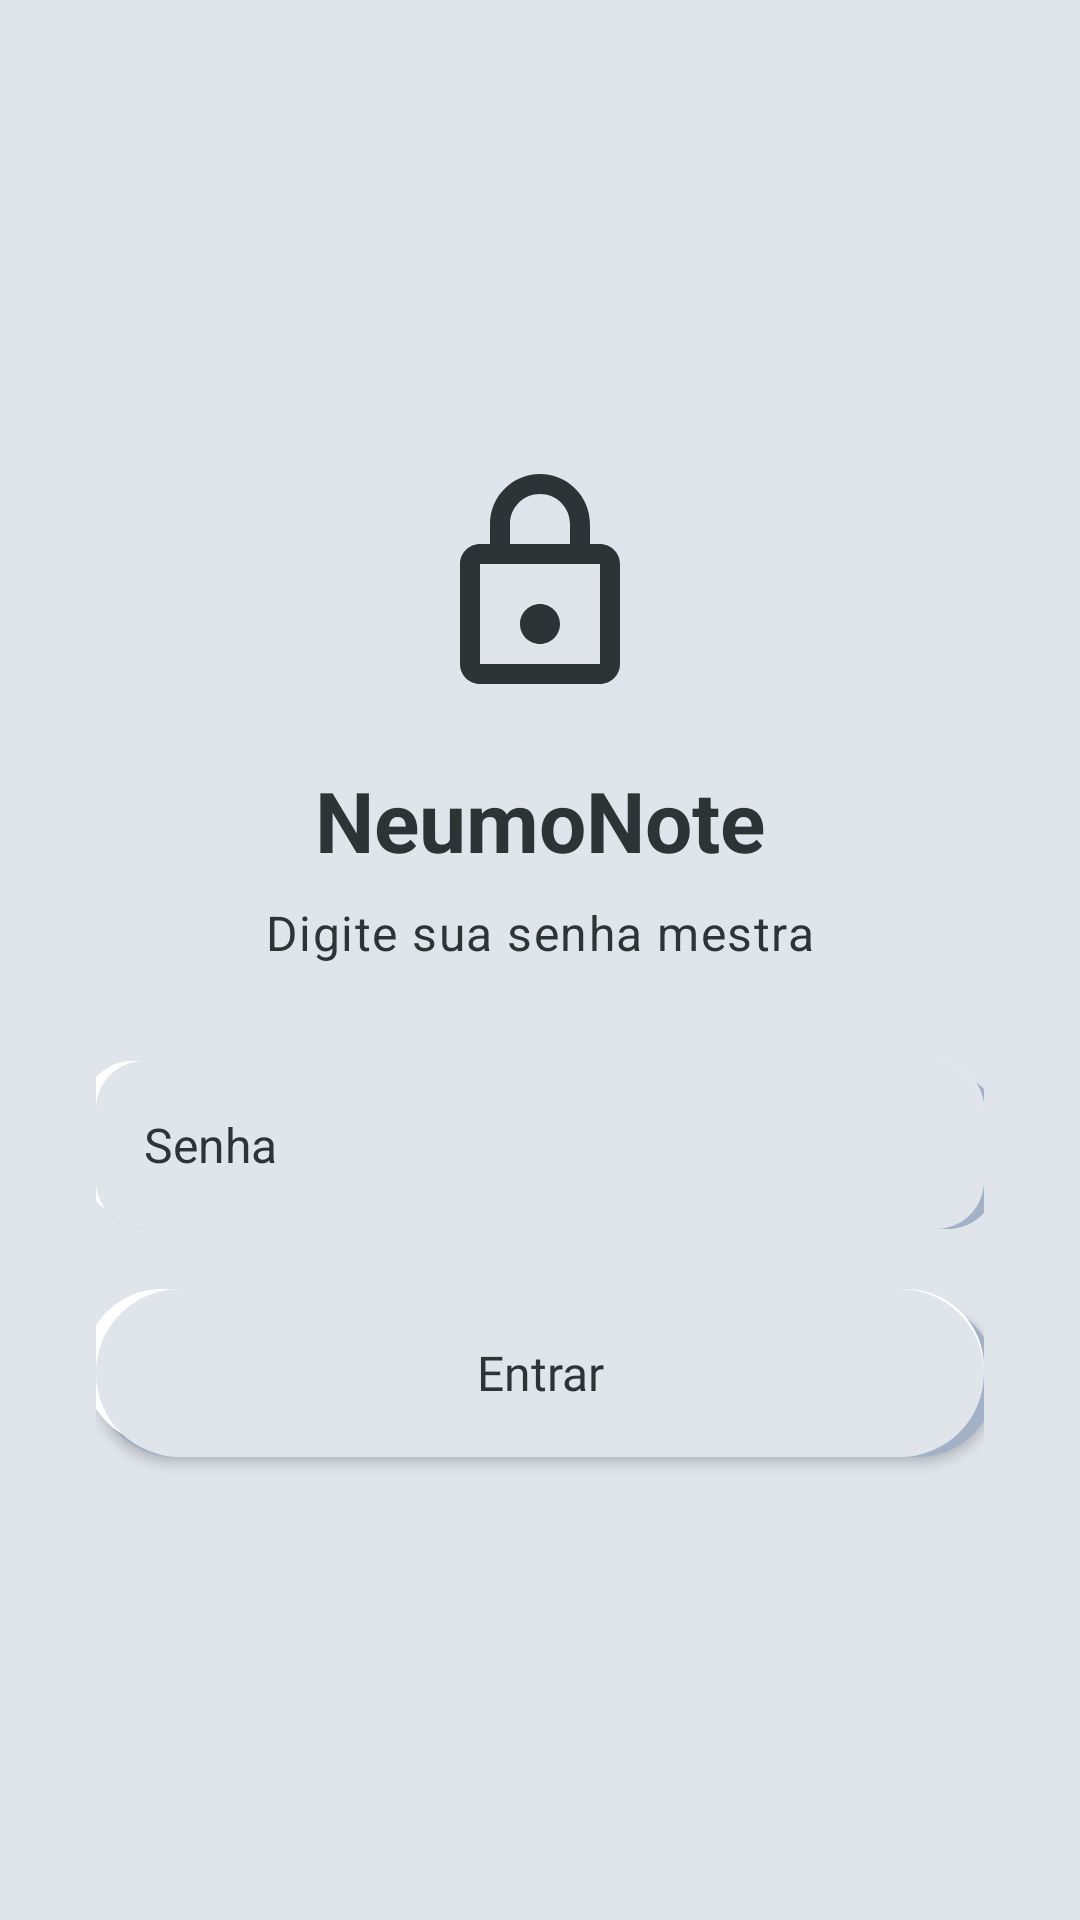

Screen size 1080w x 1920h. Icon name, then its center in pixels as (x=x, y=y):
Cadeado: (x=540, y=579)
